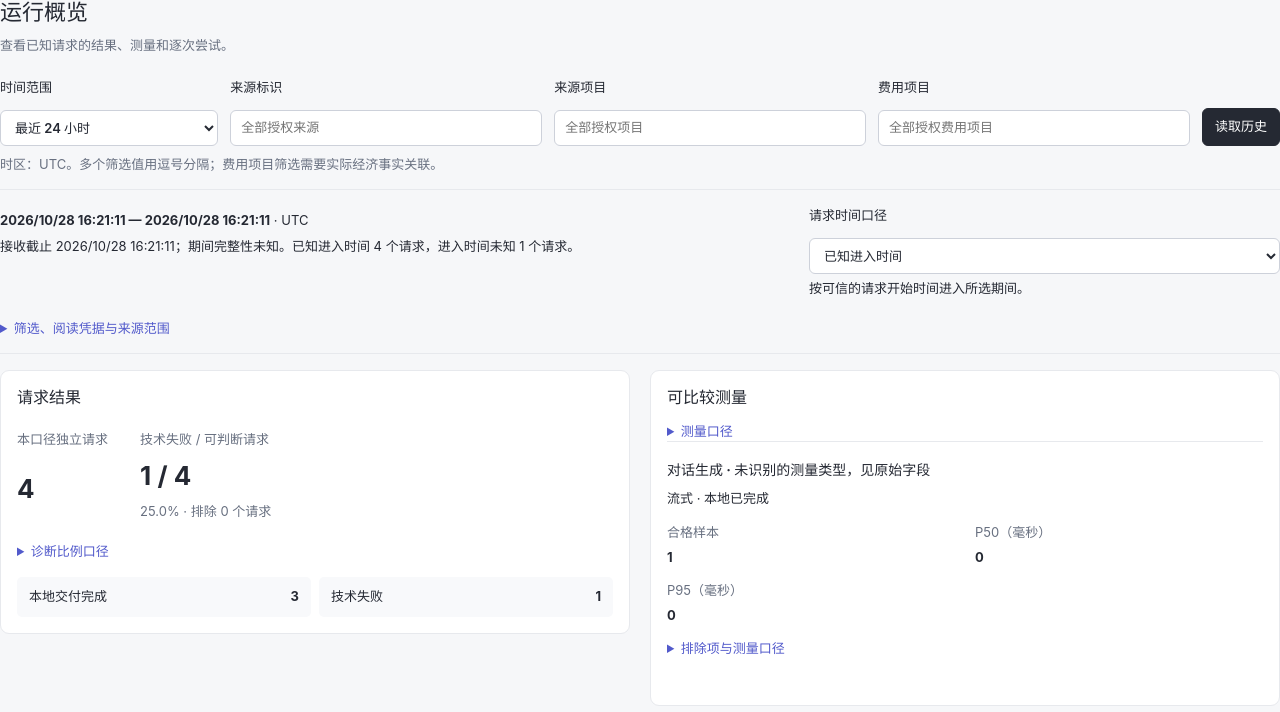
rejects a late old-reading dimension response after applying new filters
Expected: the text "1 / 4" is shown, [140,460,191,491]
Type "project-3, project-4" into the field labelled "来源项目". click: (710, 128)
box: [554,110,866,146]
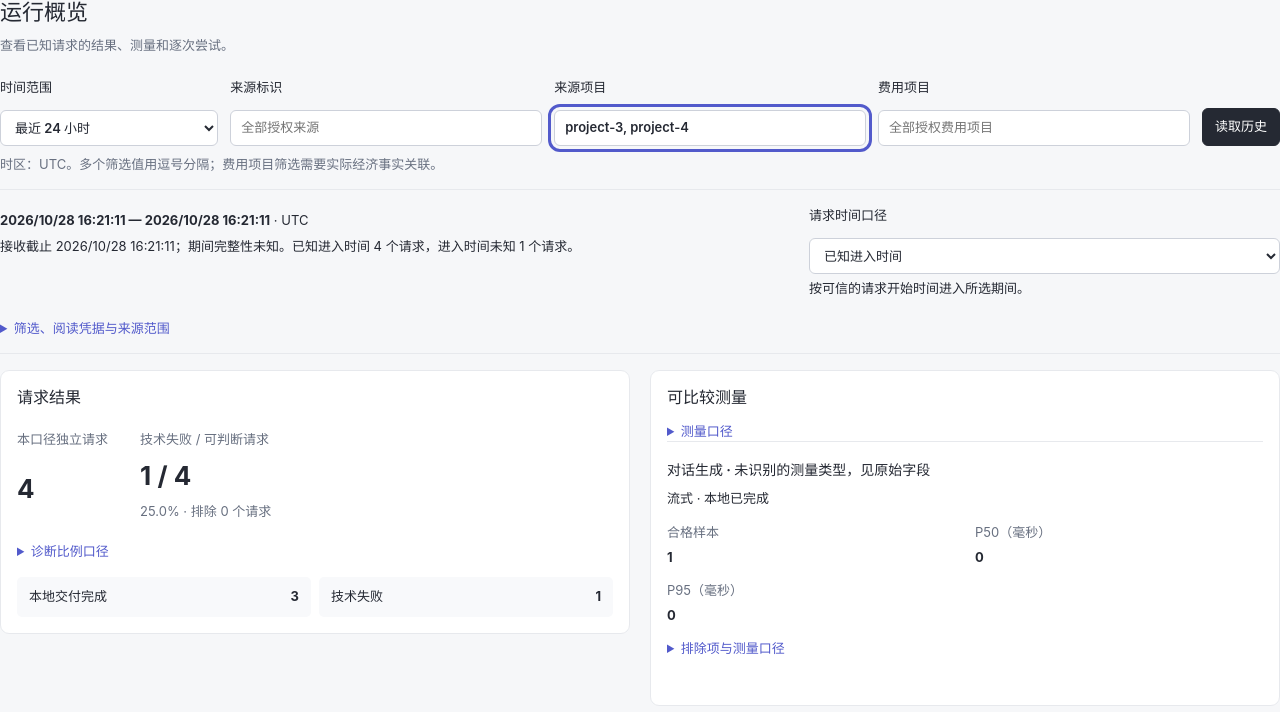
Click the button "读取历史". click: (1241, 127)
box: [1202,108,1279,146]
(page scrolled)
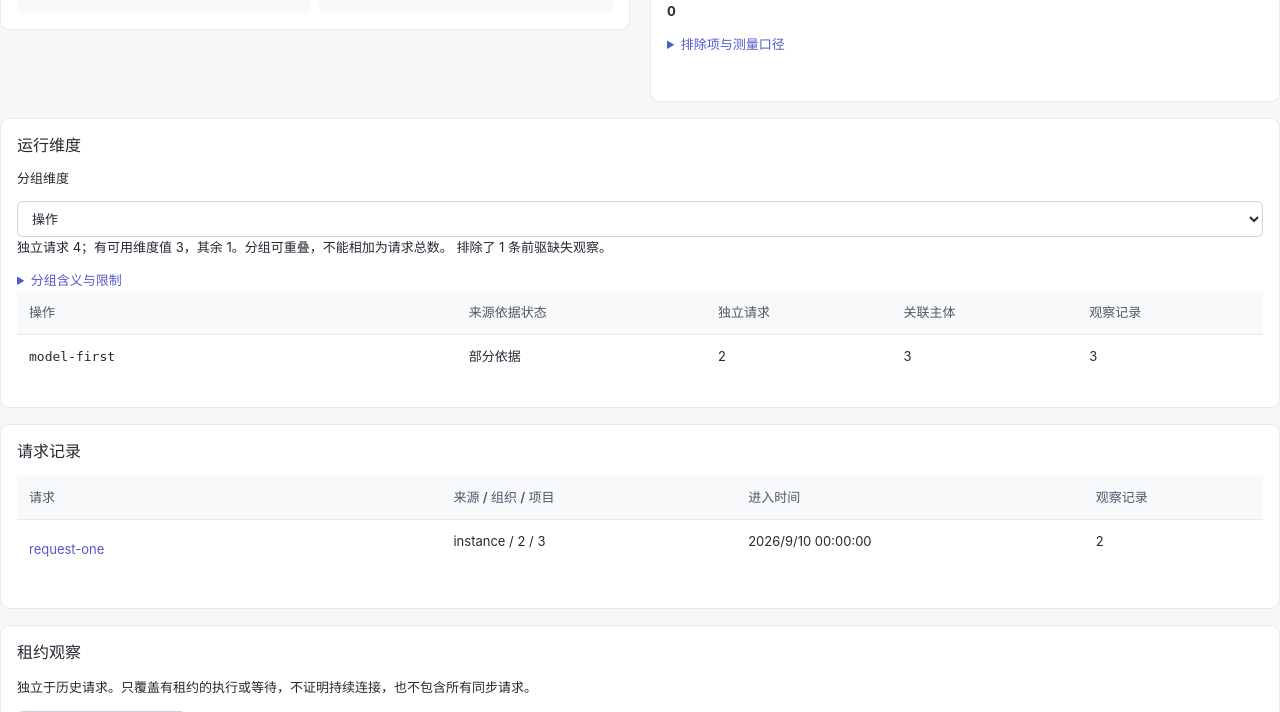
Expected: the text "model-first" is shown, [29,349,115,364]
